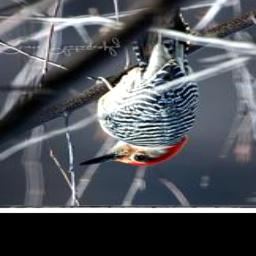Woodpecker: (71, 33, 205, 174)
